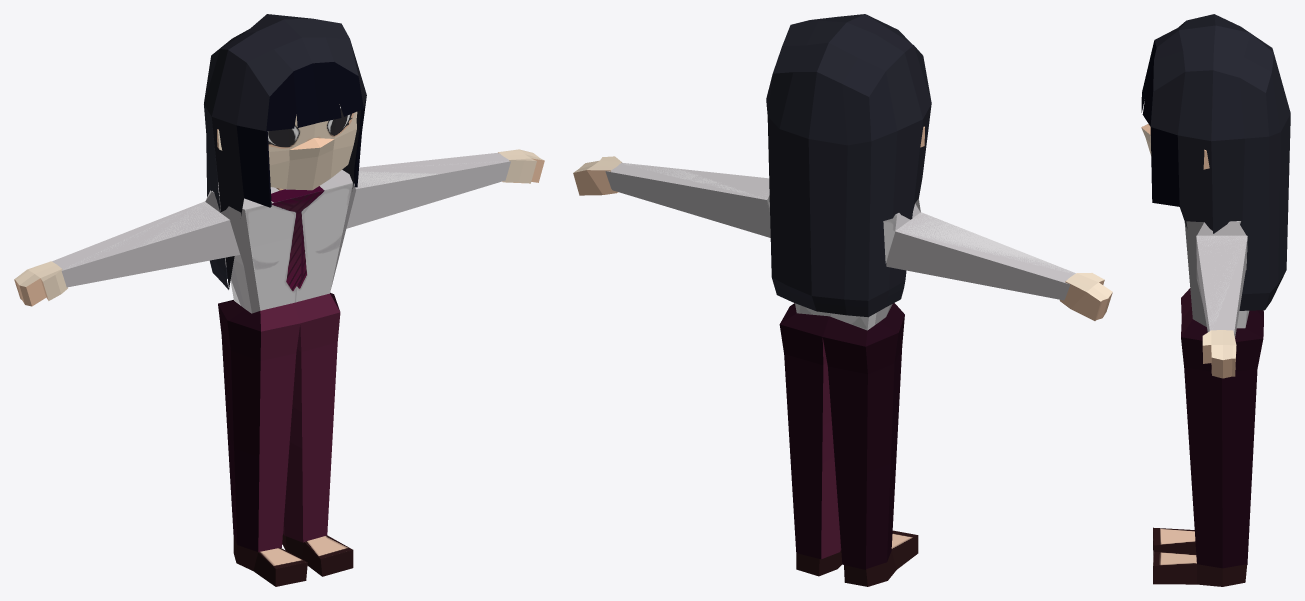
File: Npc cewe1 .fbx
3 renders of one model, left to right at view 1: azimuth 30°, elevation 25°; view 2: azimuth 150°, elevation 25°; view 3: azimuth 270°, elevation 25°, orthographic.
Parts seen in each view (by area): view 1: Baju cewe, rambut, Muka cewe 1; view 2: Baju cewe, rambut, Muka cewe 1; view 3: rambut, Baju cewe, Muka cewe 1.
Part boxes in pixels (x1,y1,x2,y2): Baju cewe: (52, 152, 510, 586); rambut: (204, 14, 366, 289); Muka cewe 1: (14, 104, 544, 306); Baju cewe: (605, 163, 1075, 586); rambut: (766, 14, 931, 317); Muka cewe 1: (573, 126, 1112, 320); rambut: (1141, 14, 1290, 310); Baju cewe: (1153, 221, 1263, 586); Muka cewe 1: (1141, 124, 1236, 378).
Bounding box in the file's own units: 345 × 339 × 85.03.
3 materials, 3 textured.
